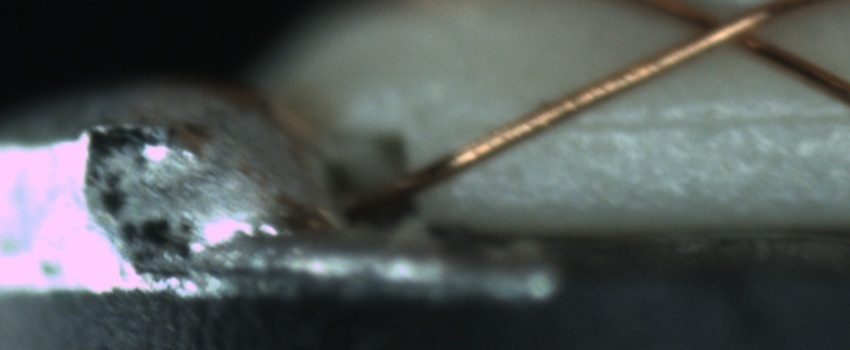CL: (665, 1, 788, 60)
DL: (509, 88, 849, 152)
